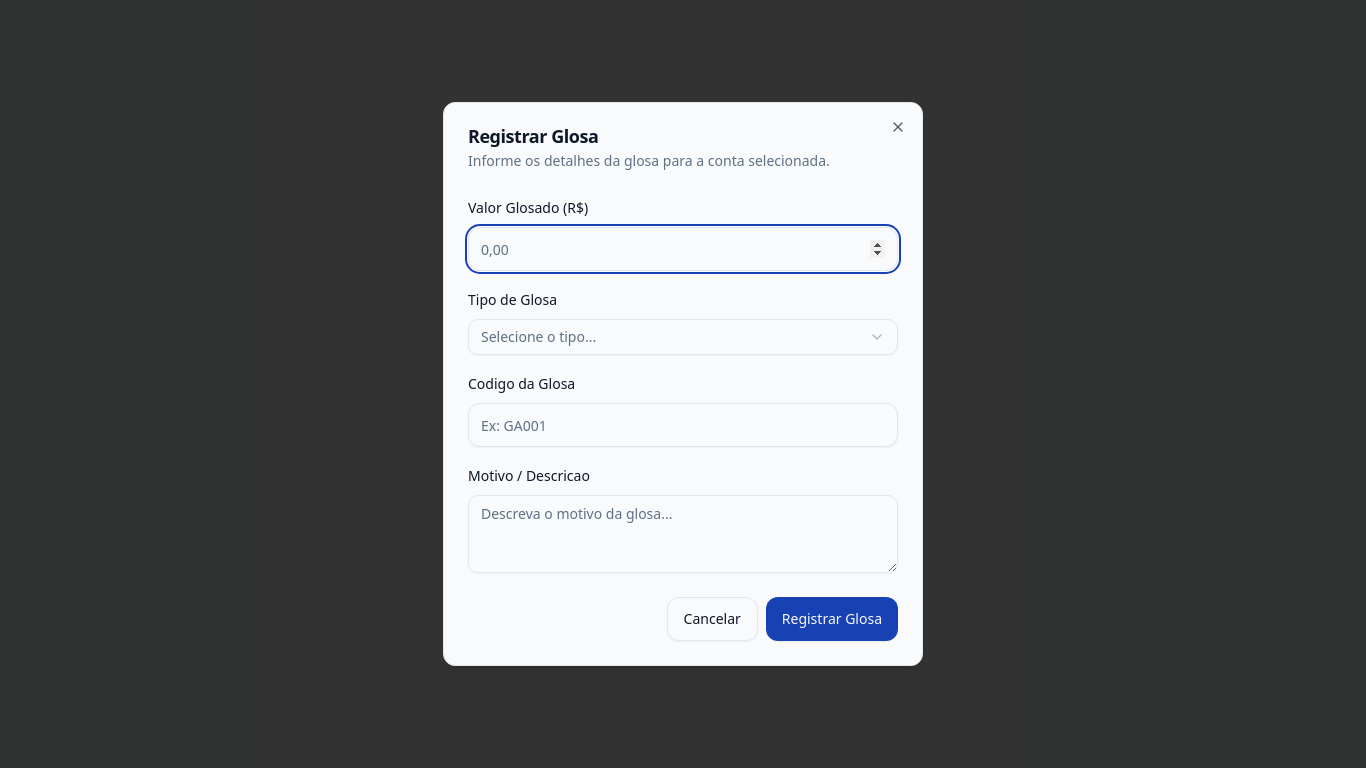
Test: CreateGlosaModal › validates empty glosa code
The image size is (1366, 768).
In the number field labelled "Valor Glosado (R$)": point(683, 249) [468,227,898,271], type "100"
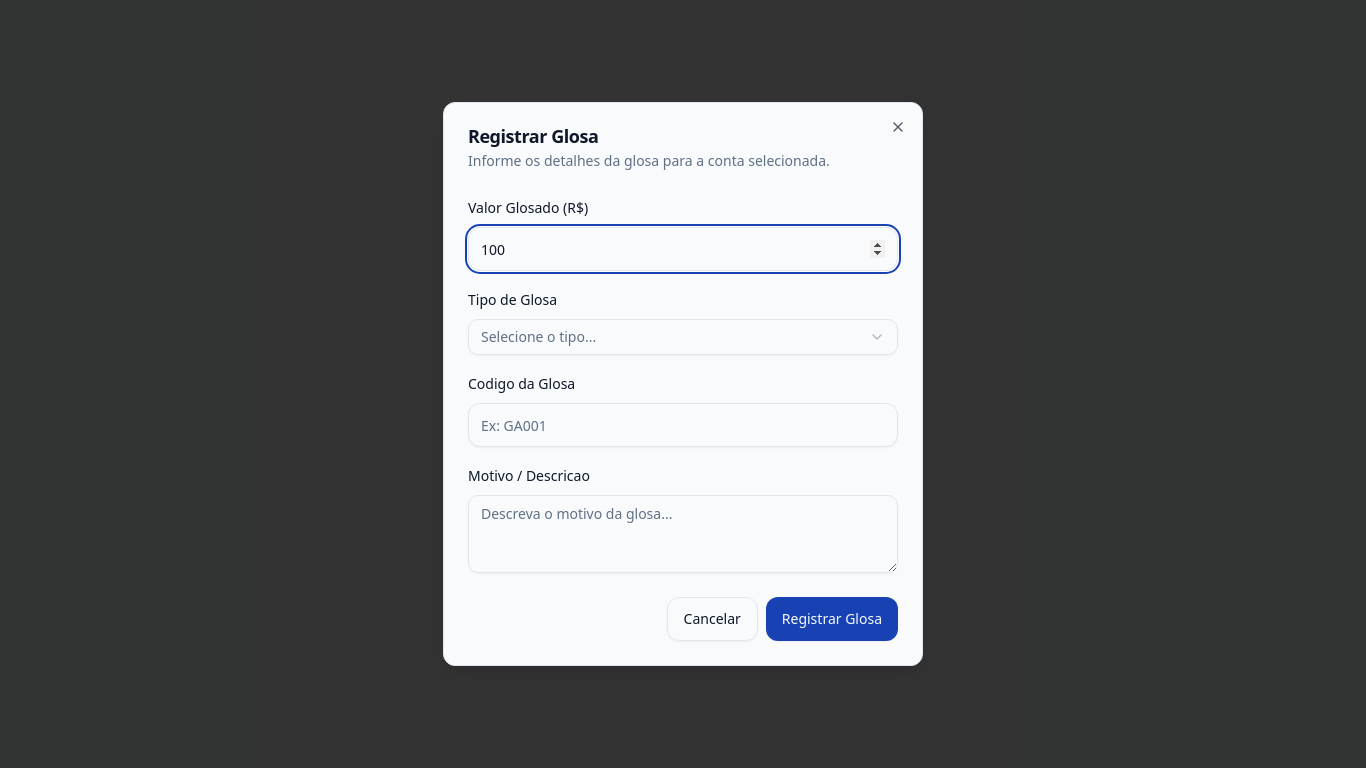
Select glosa type
Click the dropdown: point(539, 336) [468,319,898,355]
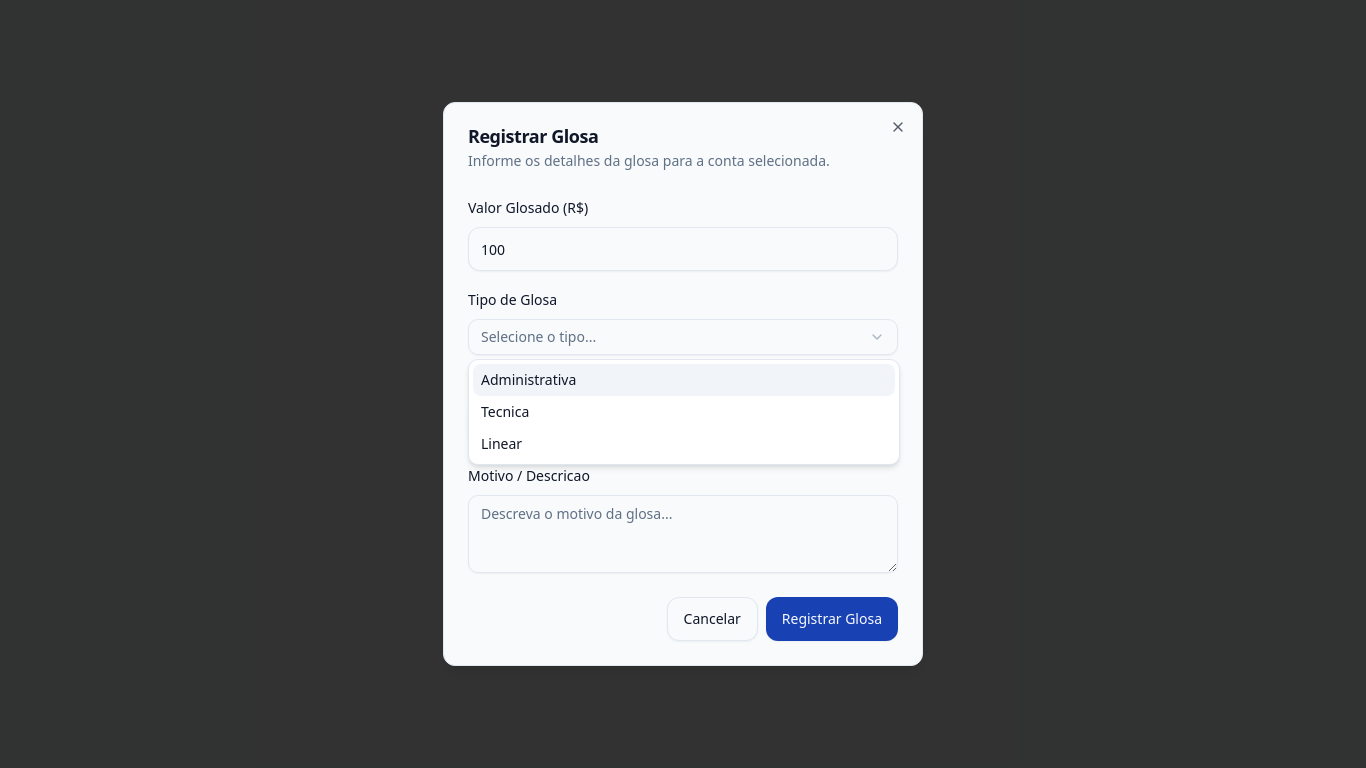
Click the option "Administrativa": point(529, 380) [473,364,895,396]
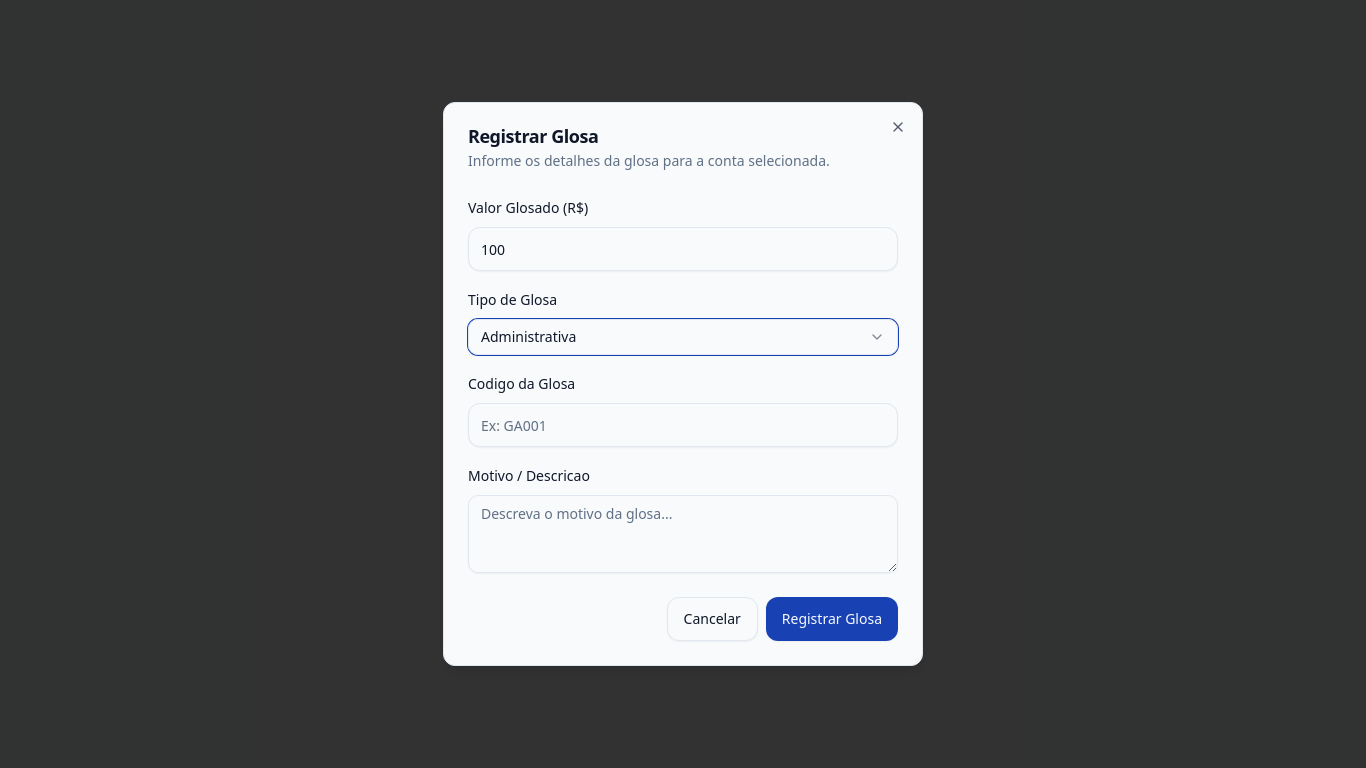
Click the button "Registrar Glosa": point(832, 619) [766,597,898,641]
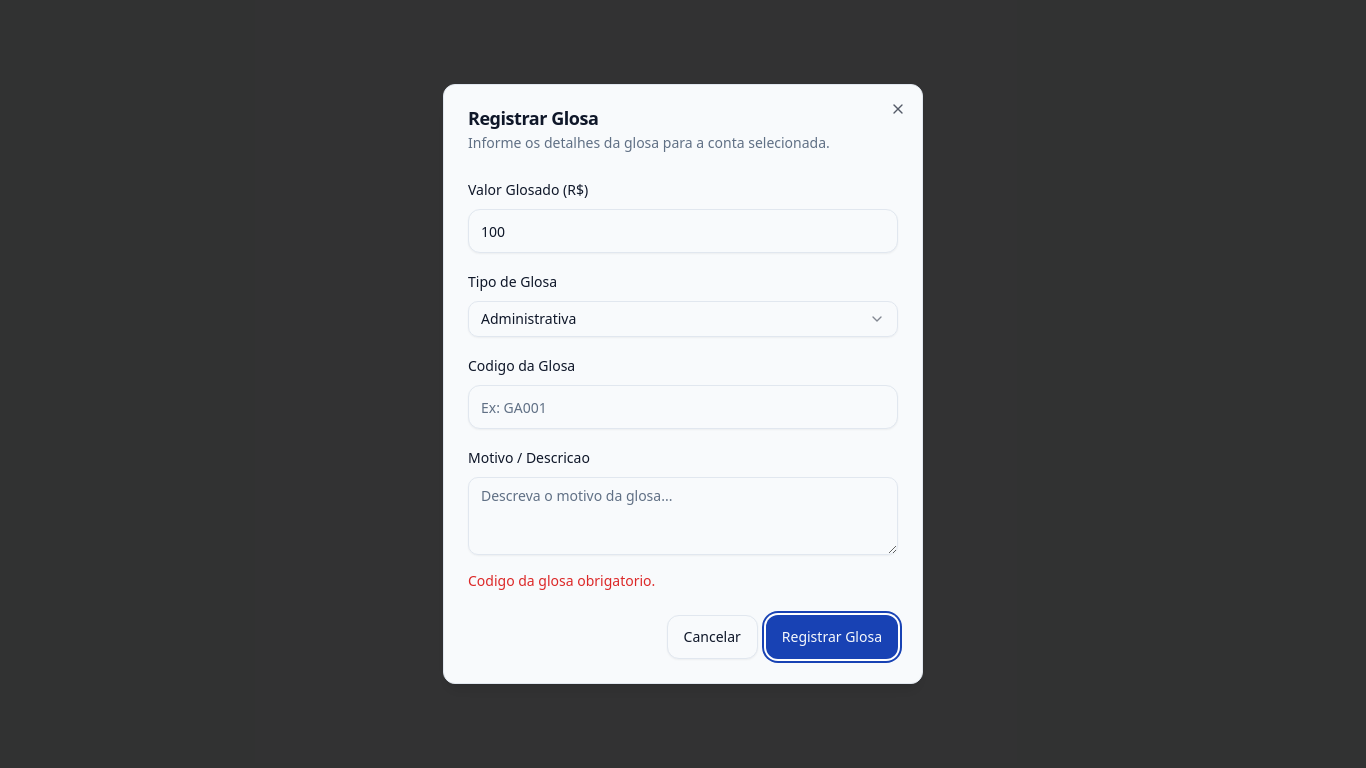
Expected: the text "Codigo da glosa obrigatorio." is shown, [468,571,655,590]
